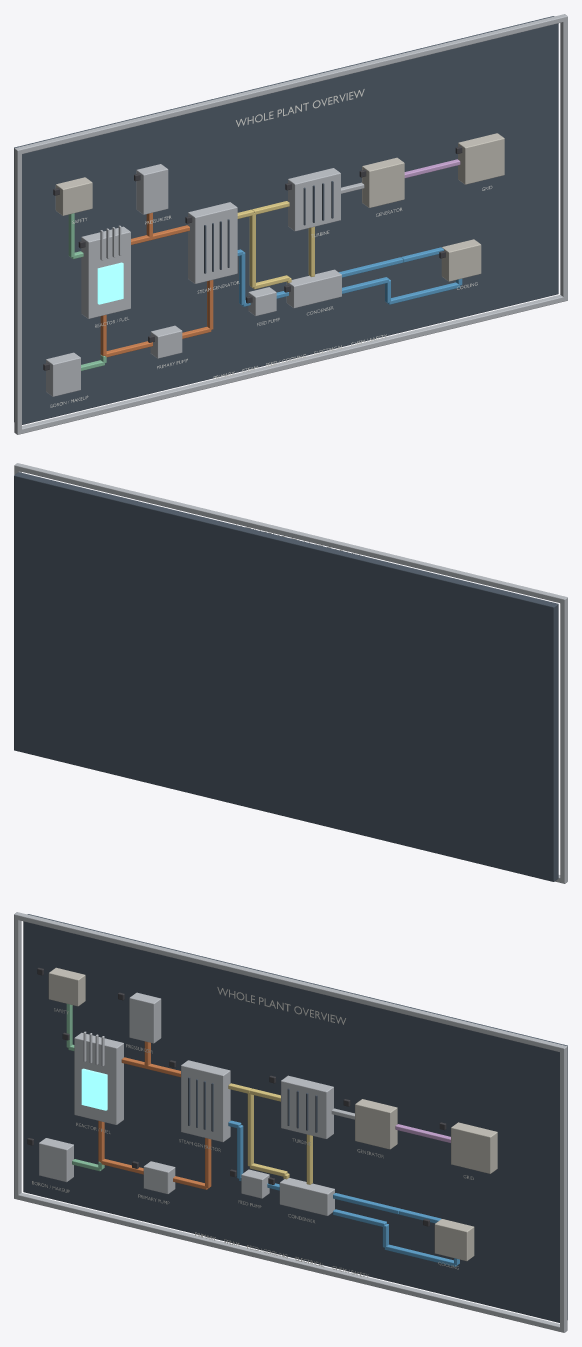
File: PlantOverview.fbx
3 renders of one model, top to bottom at view 1: azimuth 30°, elevation 25°; view 2: azimuth 150°, elevation 25°; view 3: azimuth 330°, elevation 25°, orthographic.
Visible parts, largest first — view 1: Board_Back, Frame_Top, Frame_Bottom, System_SteamGenerator, System_Reactor, System_Turbine, Frame_Left, Frame_Right, System_Grid, System_Generator, System_Condenser, System_Pressurizer (+6 smaller); view 2: Board_Back, Frame_Top, Frame_Left; view 3: Board_Back, Frame_Top, Frame_Bottom, System_SteamGenerator, System_Reactor, System_Turbine, Frame_Right, Frame_Left, System_Grid, System_Generator, System_Condenser, System_Pressurizer (+6 smaller).
Part boxes in pixels (bbox=[...]): Board_Back: bbox=[14, 16, 558, 424]; Frame_Top: bbox=[14, 14, 567, 154]; Frame_Bottom: bbox=[14, 295, 567, 434]; System_SteamGenerator: bbox=[188, 202, 237, 283]; System_Reactor: bbox=[81, 226, 130, 318]; System_Turbine: bbox=[288, 168, 340, 231]; Frame_Left: bbox=[14, 151, 21, 433]; Frame_Right: bbox=[560, 18, 567, 299]; System_Grid: bbox=[458, 133, 504, 184]; System_Generator: bbox=[362, 157, 404, 207]; System_Condenser: bbox=[286, 269, 341, 308]; System_Pressurizer: bbox=[136, 164, 168, 214]; Board_Back: bbox=[14, 472, 558, 881]; Frame_Top: bbox=[14, 463, 567, 603]; Frame_Left: bbox=[560, 599, 567, 881]; Board_Back: bbox=[23, 914, 567, 1322]; Frame_Top: bbox=[14, 912, 567, 1052]; Frame_Bottom: bbox=[14, 1193, 567, 1332]; System_SteamGenerator: bbox=[181, 1060, 230, 1142]; System_Reactor: bbox=[74, 1032, 123, 1124]; System_Turbine: bbox=[281, 1075, 333, 1138]; Frame_Right: bbox=[560, 1048, 567, 1331]; Frame_Left: bbox=[14, 916, 21, 1197]; System_Grid: bbox=[451, 1122, 497, 1173]; System_Generator: bbox=[355, 1099, 397, 1149]; System_Condenser: bbox=[279, 1178, 334, 1215]; System_Pressurizer: bbox=[129, 992, 161, 1043].
Size of the model in its own units: 7.75 by 3.83 by 0.4.
